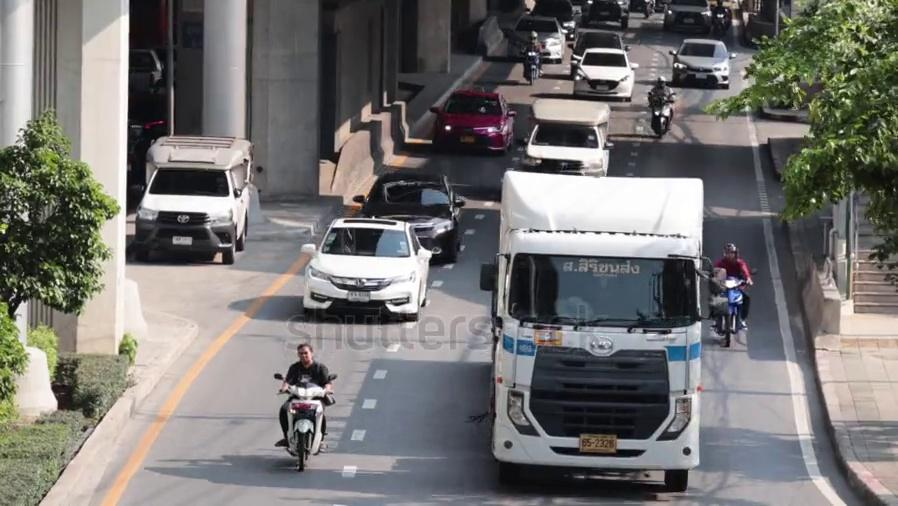rider: (274, 342, 333, 450), (712, 242, 753, 335), (647, 75, 676, 134), (520, 27, 544, 86), (710, 2, 733, 45)
with_helmate: (721, 243, 740, 262), (528, 31, 539, 44), (655, 76, 666, 88)
without_helmate: (295, 343, 315, 366)
